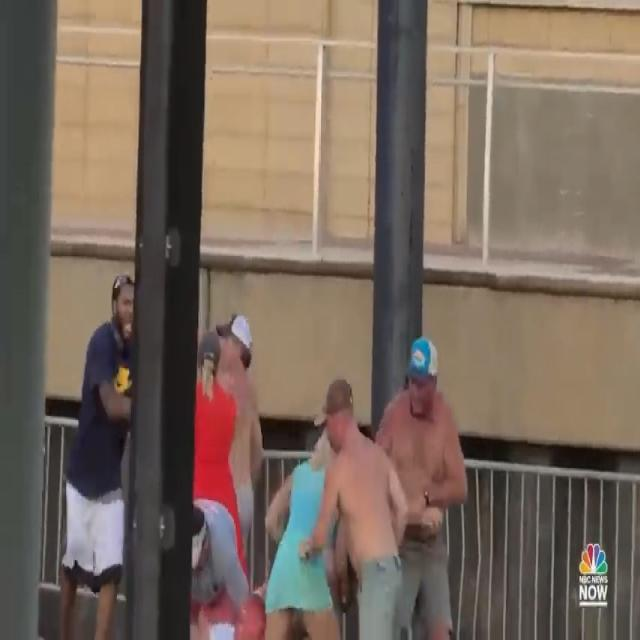fight: (56, 264, 468, 640)
